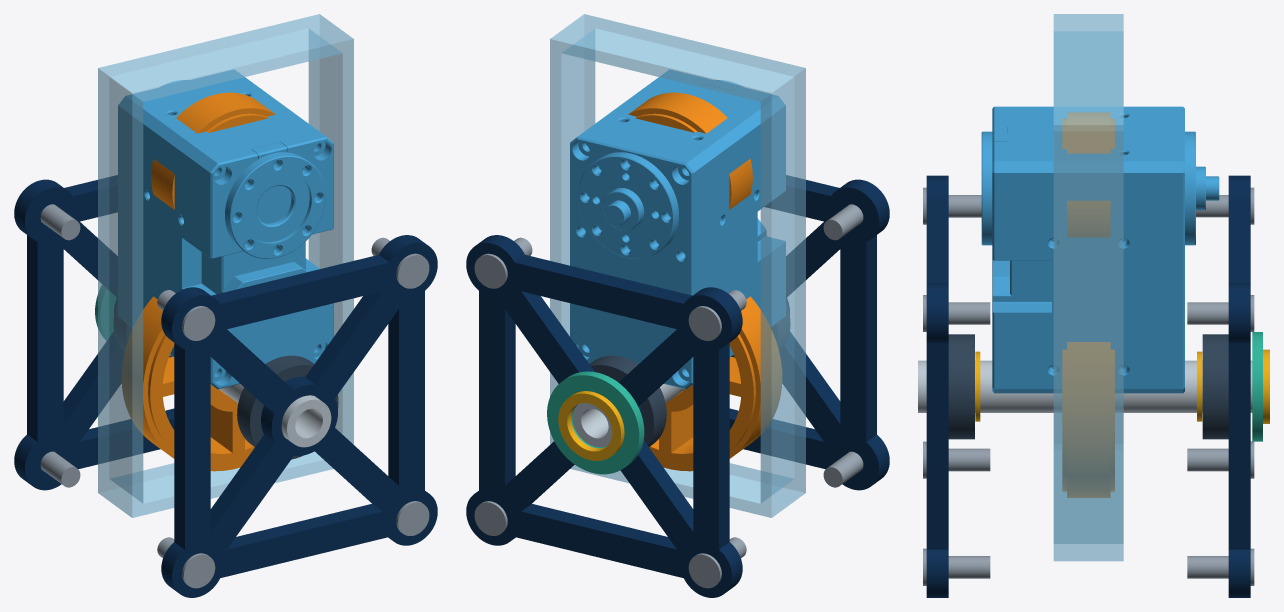
The model's file is JMF-07-LEG-REDUCED-15_assembly.glb.
The picture shows the model from 3 angles, left to right: view 1: azimuth 30°, elevation 25°; view 2: azimuth 150°, elevation 25°; view 3: azimuth 270°, elevation 25°; orthographic projection. The views are drawn at different scales.
Visible parts, largest first — view 1: CARRIER_A, ACTUATOR, TRANSMISSION_GUARD, CARRIER_B, TIMING_BELT, OUTPUT_PULLEY, OUTPUT_SHAFT, BEARING_A, CARRIER_A_SCREW_21, CARRIER_A_SCREW_22, CARRIER_A_SCREW_12, CARRIER_A_SCREW_11 (+3 smaller); view 2: CARRIER_B, ACTUATOR, TRANSMISSION_GUARD, CARRIER_A, TIMING_BELT, OUTPUT_PULLEY, OUTPUT_ENCODER_CARRIER, OUTPUT_MAGNET_HUB, BEARING_B, OUTPUT_SHAFT, CARRIER_B_SCREW_21, CARRIER_B_SCREW_22 (+4 smaller); view 3: ACTUATOR, TRANSMISSION_GUARD, TIMING_BELT, CARRIER_A, CARRIER_B, OUTPUT_SHAFT, BEARING_A, BEARING_B, OUTPUT_PULLEY, OUTPUT_ENCODER_CARRIER, CARRIER_B_SCREW_21, CARRIER_A_SCREW_21 (+7 smaller).
Boxes of the visible parts, x1,y1,x2,y2 form: CARRIER_A: (161,235,437,597); ACTUATOR: (118,69,333,389); TRANSMISSION_GUARD: (98,14,353,517); CARRIER_B: (14,175,174,490); TIMING_BELT: (122,92,275,471); OUTPUT_PULLEY: (148,334,254,467); OUTPUT_SHAFT: (219,384,331,447); BEARING_A: (237,355,338,459); CARRIER_A_SCREW_21: (157,537,215,588); CARRIER_A_SCREW_22: (157,290,215,340); CARRIER_A_SCREW_12: (371,237,429,288); CARRIER_A_SCREW_11: (396,501,429,535); CARRIER_B: (466,235,742,597); ACTUATOR: (570,69,785,389); TRANSMISSION_GUARD: (550,14,805,517); CARRIER_A: (729,175,889,490); TIMING_BELT: (628,92,781,471); OUTPUT_PULLEY: (649,334,755,467); OUTPUT_ENCODER_CARRIER: (547,371,644,474); OUTPUT_MAGNET_HUB: (558,391,624,460); BEARING_B: (589,355,666,446); OUTPUT_SHAFT: (572,384,684,447); CARRIER_B_SCREW_21: (688,537,746,588); CARRIER_B_SCREW_22: (688,290,746,340); ACTUATOR: (981,106,1219,393); TRANSMISSION_GUARD: (1053,14,1123,561); TIMING_BELT: (1067,112,1110,497); CARRIER_A: (926,175,948,597); CARRIER_B: (1228,175,1250,597); OUTPUT_SHAFT: (918,360,1252,412); BEARING_A: (948,334,974,439); BEARING_B: (1202,334,1228,439); OUTPUT_PULLEY: (1062,350,1114,491); OUTPUT_ENCODER_CARRIER: (1252,332,1262,441); CARRIER_B_SCREW_21: (1187,441,1254,478); CARRIER_A_SCREW_21: (923,441,990,478).
Size of the model in its own units: 71.99 by 119 by 80.4.
